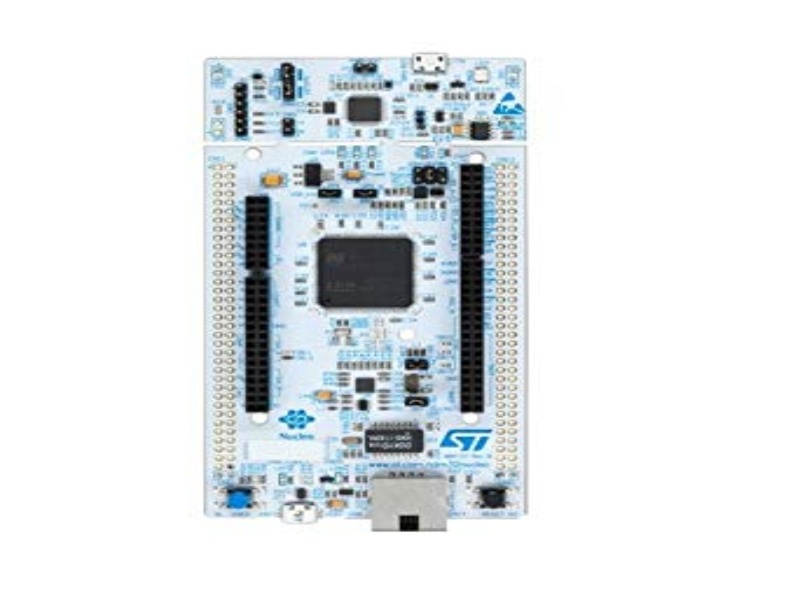stmnucleo: (192, 52, 529, 533)
